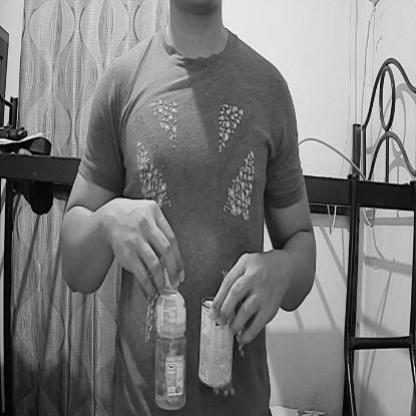Plastic Bottle: (147, 257, 193, 416)
